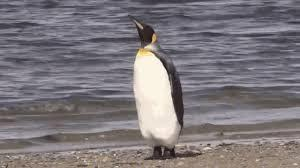king: (118, 13, 198, 161)
